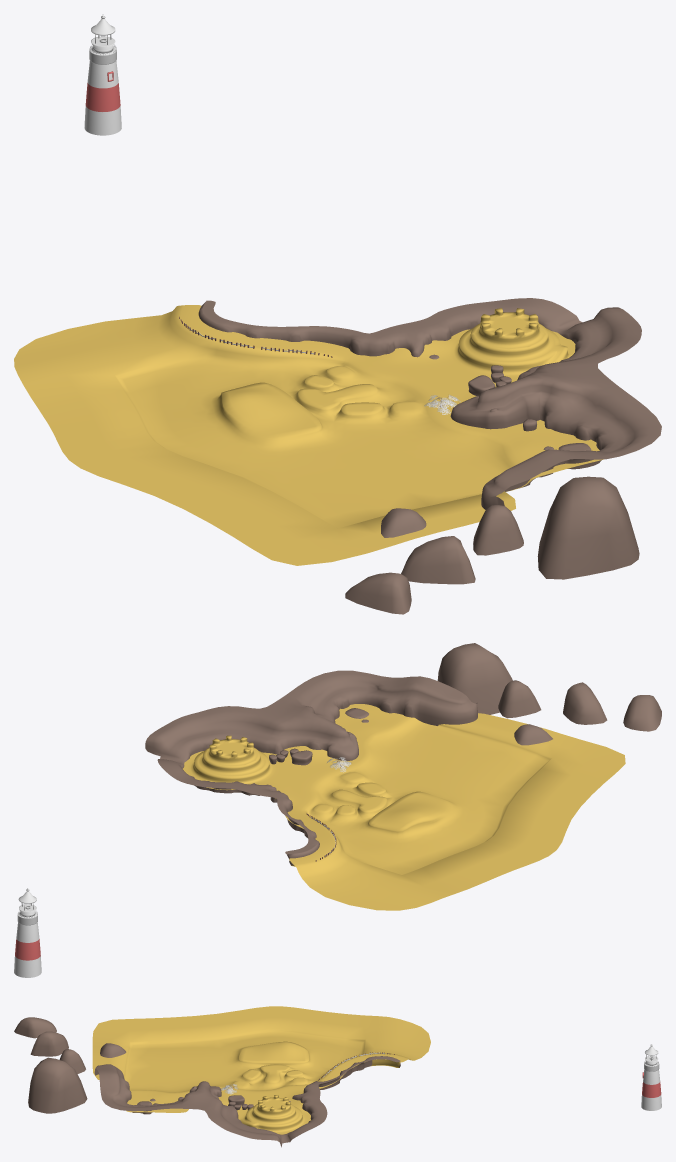
Rendered from beach.glb.
3 renders of one model, top to bottom at view 1: azimuth 30°, elevation 25°; view 2: azimuth 150°, elevation 25°; view 3: azimuth 270°, elevation 25°, orthographic. The views are drawn at different scales.
Visible parts, largest first — view 1: sand, lighthouse; view 2: sand, lighthouse; view 3: sand, lighthouse.
Part boxes in pixels (<box>): sand: <box>14,298,661,614</box>; lighthouse: <box>84,14,121,135</box>; sand: <box>145,643,661,910</box>; lighthouse: <box>14,888,41,977</box>; sand: <box>14,1006,430,1147</box>; lighthouse: <box>641,1044,661,1110</box>.
Size of the model in its own units: 622 by 143 by 1156.
Materials: 10 (1 with a texture image).
